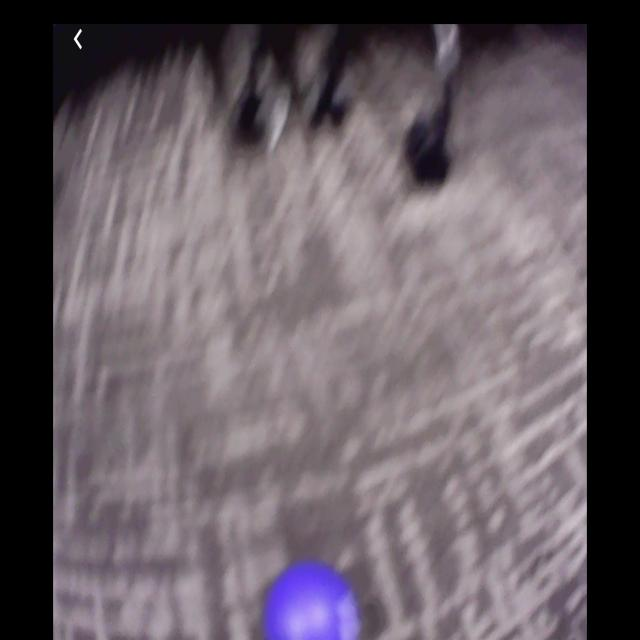ball: (266, 562, 363, 640)
